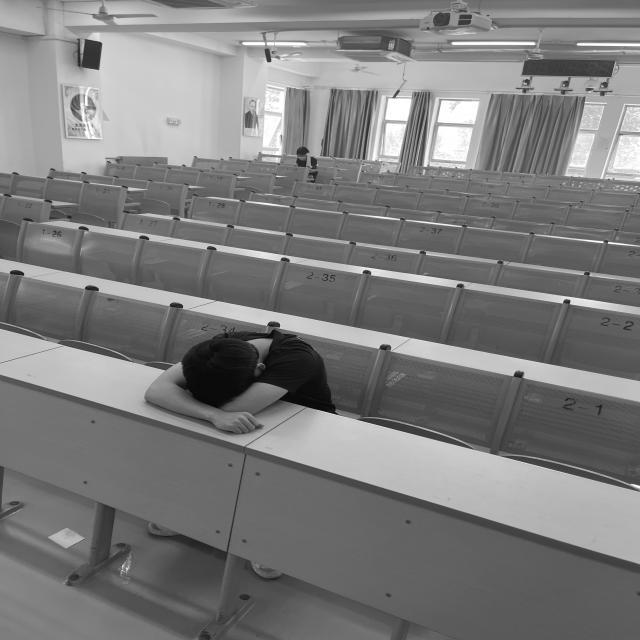sleep: (144, 331, 327, 432)
study: (294, 146, 315, 164)
